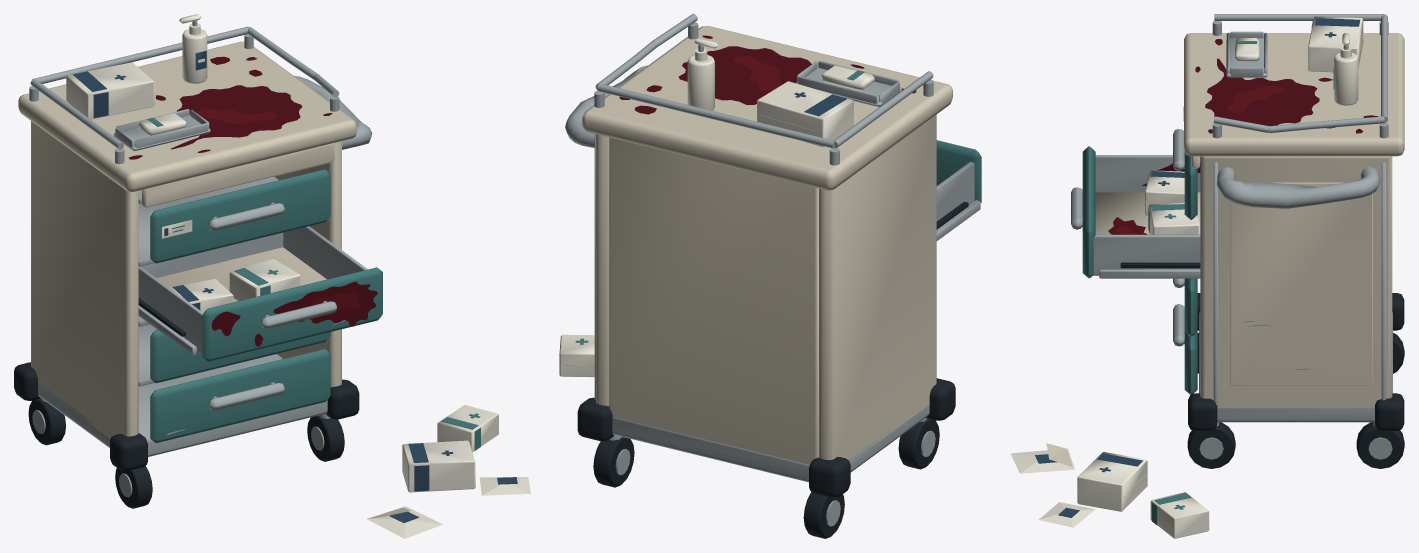
Rendered from supply_cart.glb.
3 views of the same model, side by side, from view 1: azimuth 30°, elevation 25°; view 2: azimuth 150°, elevation 25°; view 3: azimuth 270°, elevation 25° (orthographic). The views are drawn at different scales.
Visible parts, largest first — view 1: Medical_Supply_Cart_Disturbed_v3_Static; view 2: Medical_Supply_Cart_Disturbed_v3_Static; view 3: Medical_Supply_Cart_Disturbed_v3_Static.
Part boxes in pixels (left/top/right/bottom): Medical_Supply_Cart_Disturbed_v3_Static: left=14, top=14, right=530, bottom=538; Medical_Supply_Cart_Disturbed_v3_Static: left=559, top=14, right=981, bottom=538; Medical_Supply_Cart_Disturbed_v3_Static: left=1010, top=14, right=1404, bottom=538.
Size of the model in its own units: 1.16 by 1.23 by 1.1.
